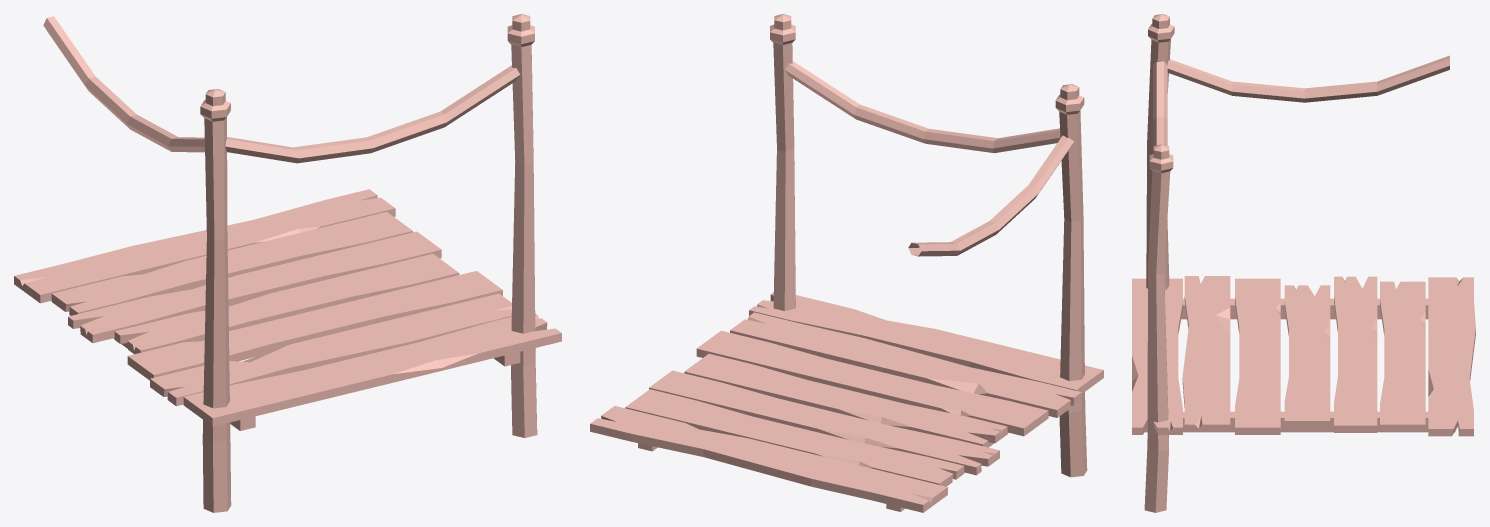
File: Mega_Asset_s_Pack_Cube_014.FBX
3 views of the same model, side by side, from view 1: azimuth 30°, elevation 25°; view 2: azimuth 150°, elevation 25°; view 3: azimuth 270°, elevation 25° (orthographic). The views are drawn at different scales.
Parts seen in each view (by area): view 1: Mega_Asset_s_Pack_Cube_014; view 2: Mega_Asset_s_Pack_Cube_014; view 3: Mega_Asset_s_Pack_Cube_014.
Part boxes in pixels (x1,y1,x2,y2): Mega_Asset_s_Pack_Cube_014: [14, 14, 561, 512]; Mega_Asset_s_Pack_Cube_014: [590, 14, 1103, 512]; Mega_Asset_s_Pack_Cube_014: [1132, 14, 1475, 512].
Size of what is drawn, in the model's own units: 300 by 285 by 331.
